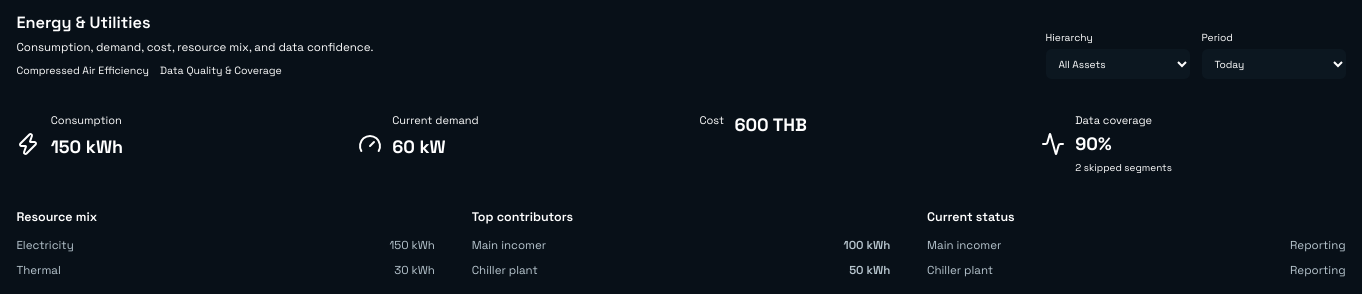
Scenario: UtilitiesOverview › switches period without refetching and protects unsupported hierarchy allocation
The width and height of the screenshot is (1362, 294).
Expected: the text "150 kWh" in the row of "90" is shown, x1=51 y1=135 x2=123 y2=158
Select "This month" in the dropdown labelled "Period" at (1274, 64), box x1=1202 y1=49 x2=1346 y2=79
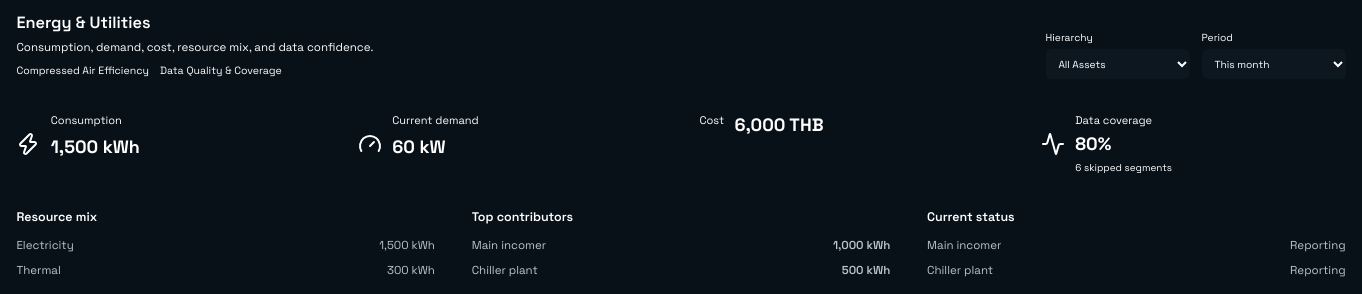
Result: the text "1,500 kWh" next to "60" is shown at x1=51 y1=135 x2=140 y2=158
Result: the text "6,000 THB" is shown at x1=734 y1=113 x2=824 y2=136
Select "Building A" in the dropdown labelled "Hierarchy" at (1118, 64), box x1=1046 y1=49 x2=1190 y2=79
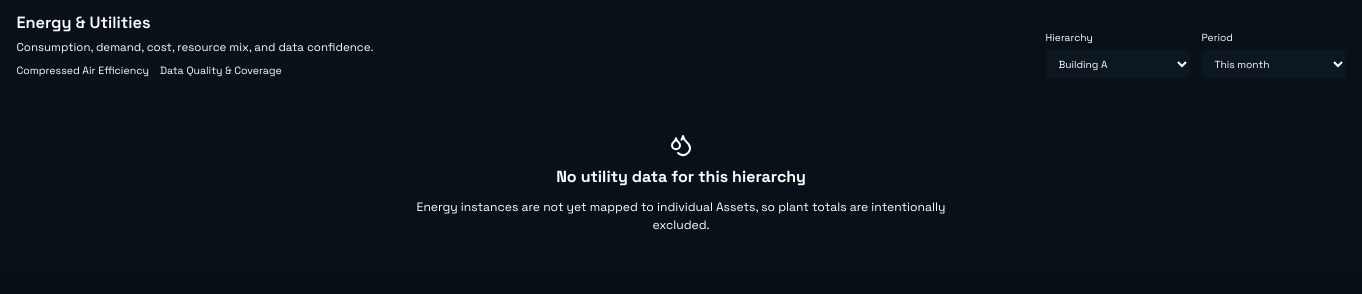
Result: the text "No utility data for this hierarchy" is shown at x1=556 y1=165 x2=806 y2=189
Result: the text "plant totals are intentionally excluded" is shown at x1=417 y1=199 x2=945 y2=233
